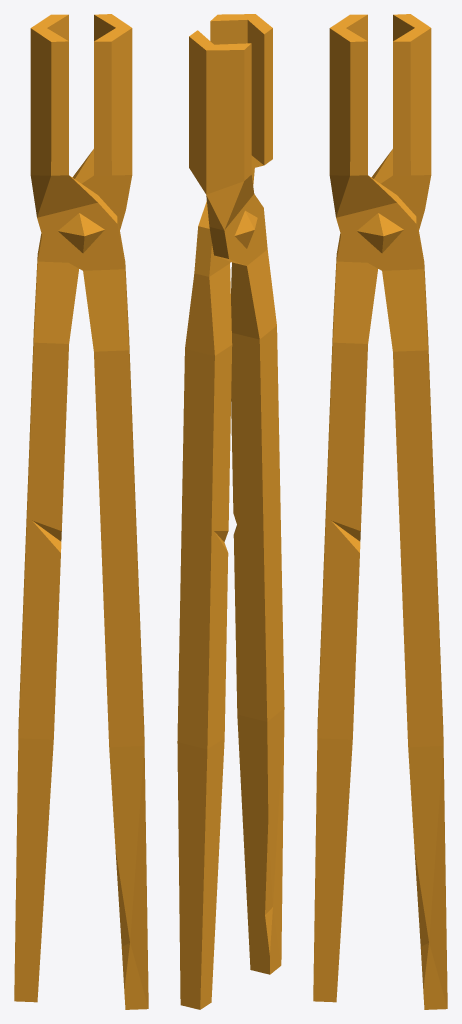
Rendered from SM_Tongs_Blacksmith_B.fbx.
3 views of the same model, side by side, from view 1: azimuth 90°, elevation 25°; view 2: azimuth 150°, elevation 25°; view 3: azimuth 270°, elevation 25° (orthographic). The views are drawn at different scales.
Visible parts, largest first — view 1: tongs-blacksmith-b; view 2: tongs-blacksmith-b; view 3: tongs-blacksmith-b.
Boxes of the visible parts, x1,y1,x2,y2 form: tongs-blacksmith-b: (14,14,148,1009); tongs-blacksmith-b: (177,14,284,1009); tongs-blacksmith-b: (313,14,447,1009).
Size of the model in its own units: 0.0376 by 0.6087 by 0.0761.
